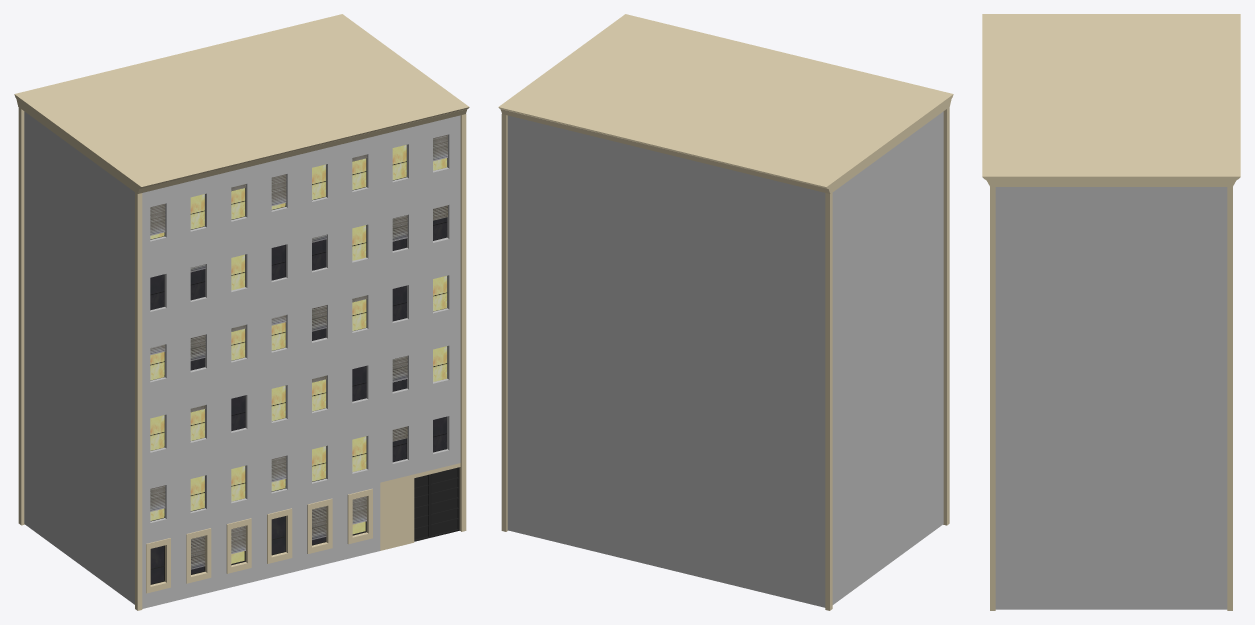
The model's file is Bloc_026F.fbx.
The picture shows the model from 3 angles, left to right: view 1: azimuth 30°, elevation 25°; view 2: azimuth 150°, elevation 25°; view 3: azimuth 270°, elevation 25°; orthographic projection.
Visible parts, largest first — view 1: Bloc_26F; view 2: Bloc_26F; view 3: Bloc_26F.
Boxes of the visible parts, <box> form: Bloc_26F: <box>14,14,469,610</box>; Bloc_26F: <box>498,14,953,610</box>; Bloc_26F: <box>982,14,1240,610</box>.
Bounding box in the file's own units: 982 × 1820 × 1466.
